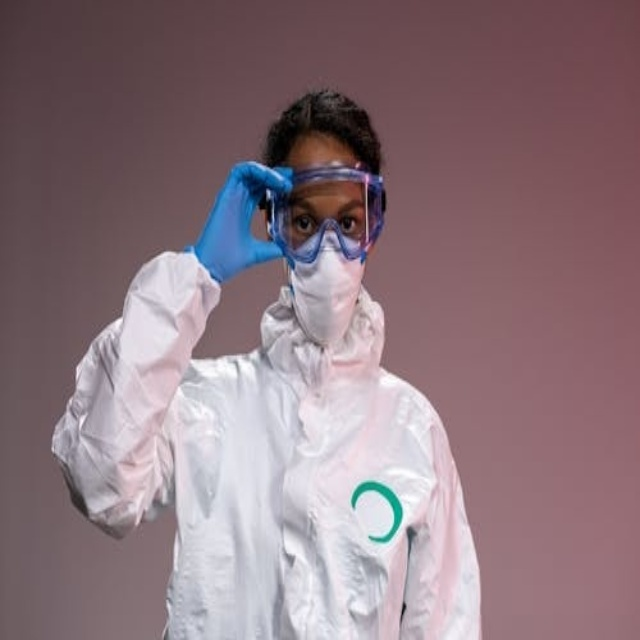Gafas: (265, 166, 386, 263)
Guantes: (190, 161, 293, 286)
Mascara: (281, 220, 371, 346)
